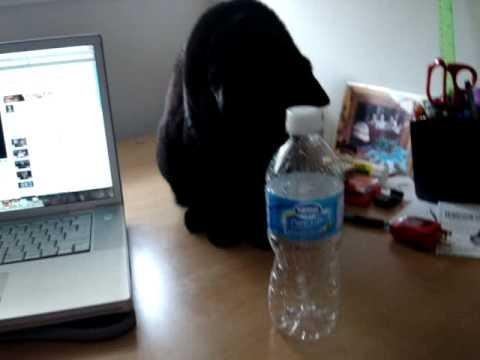plastic_bottle: (266, 103, 348, 347)
